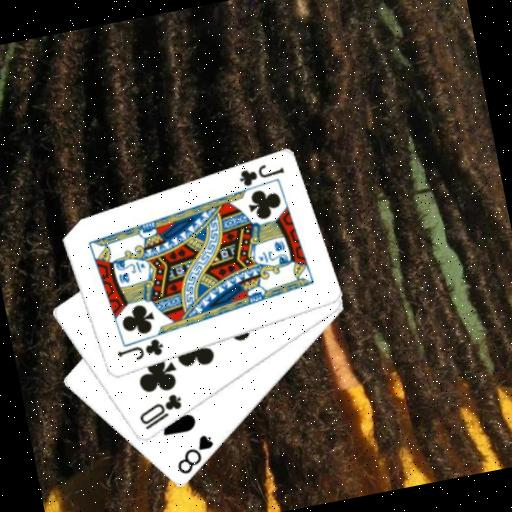10C: (133, 389, 189, 433)
8S: (168, 431, 220, 479)
JC: (113, 335, 167, 367), (234, 158, 287, 190)
